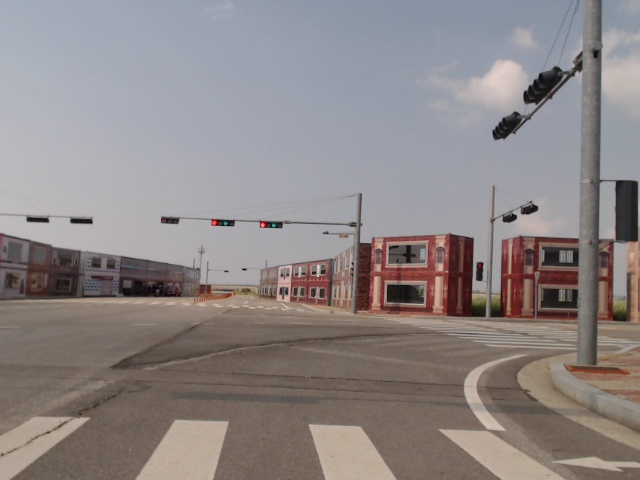left_green_4: (260, 222, 283, 228), (212, 220, 234, 226)
